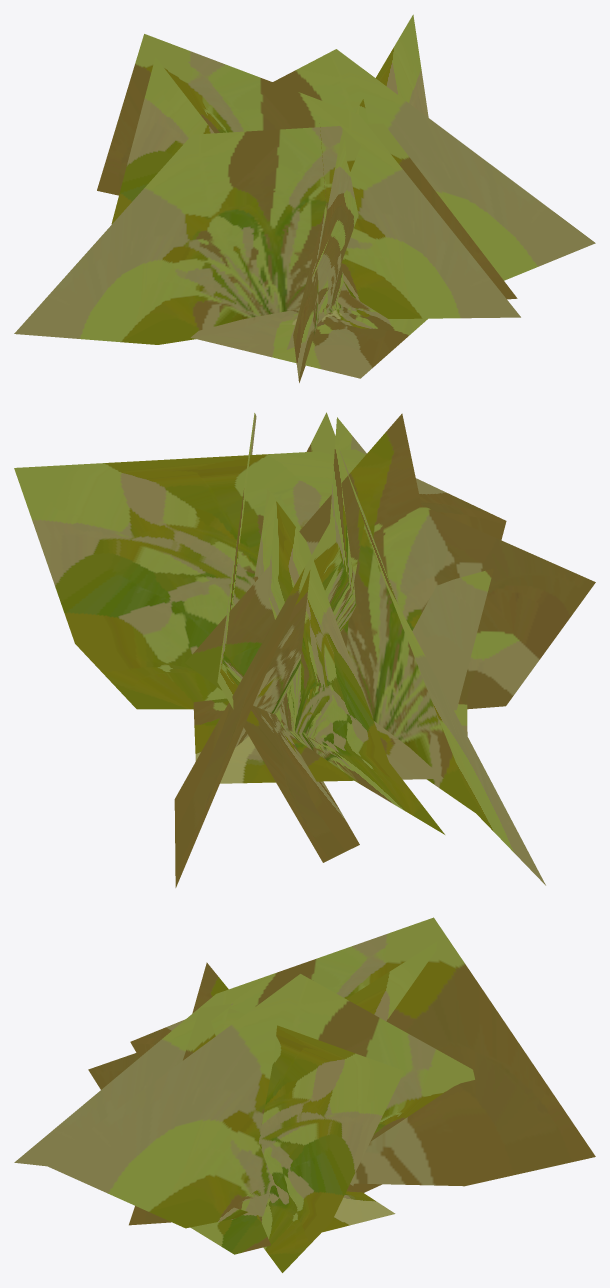
File: grass_aged.gltf
3 renders of one model, top to bottom at view 1: azimuth 30°, elevation 25°; view 2: azimuth 150°, elevation 25°; view 3: azimuth 270°, elevation 25°, orthographic. The views are drawn at different scales.
Visible parts, largest first — view 1: Grass main aged; view 2: Grass main aged; view 3: Grass main aged.
Boxes of the visible parts, <box> form: Grass main aged: <box>14,14,595,382</box>; Grass main aged: <box>14,412,595,887</box>; Grass main aged: <box>14,917,595,1272</box>.
Size of the model in its own units: 0.3598 by 0.2372 by 0.4579.
Materials: 1 (1 with a texture image).
